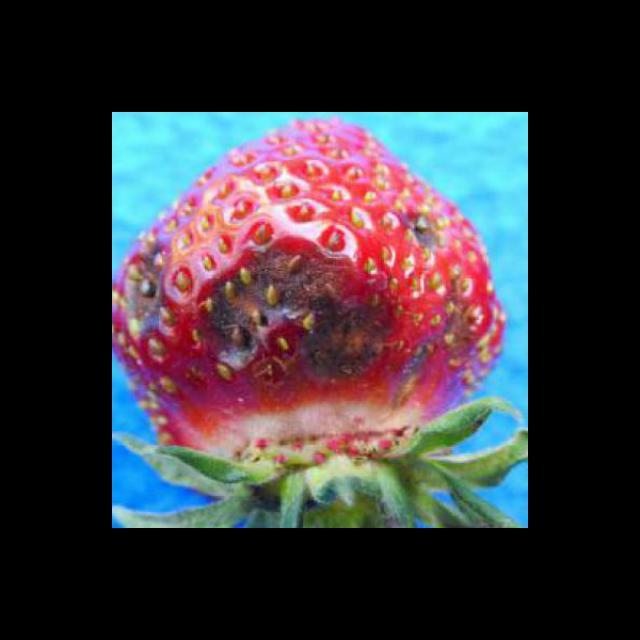Anthracnose Fruit Rot: (113, 210, 479, 421)
